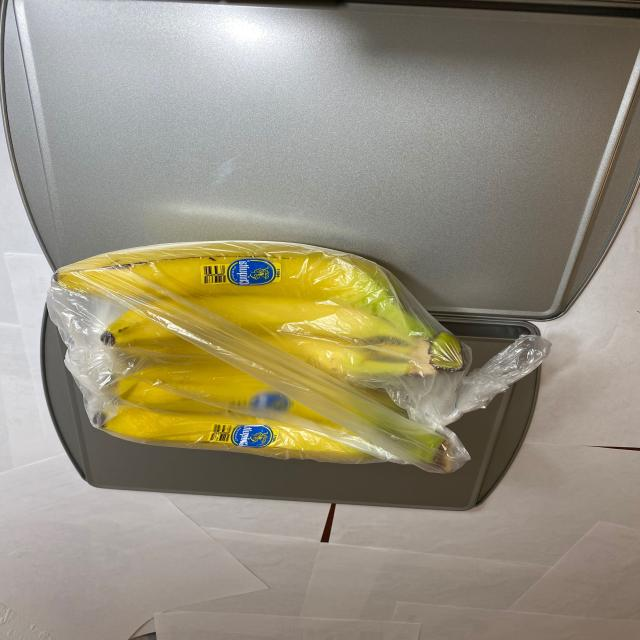banana: (38, 231, 487, 482)
